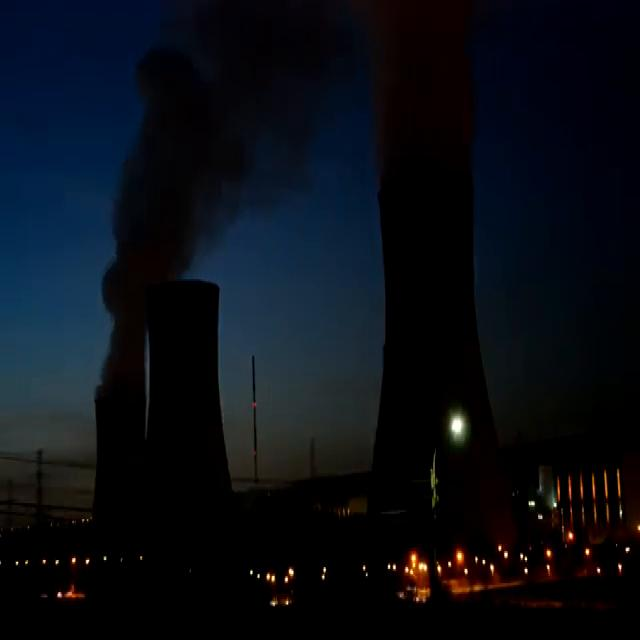smoke: (94, 41, 242, 452), (355, 0, 477, 196)
